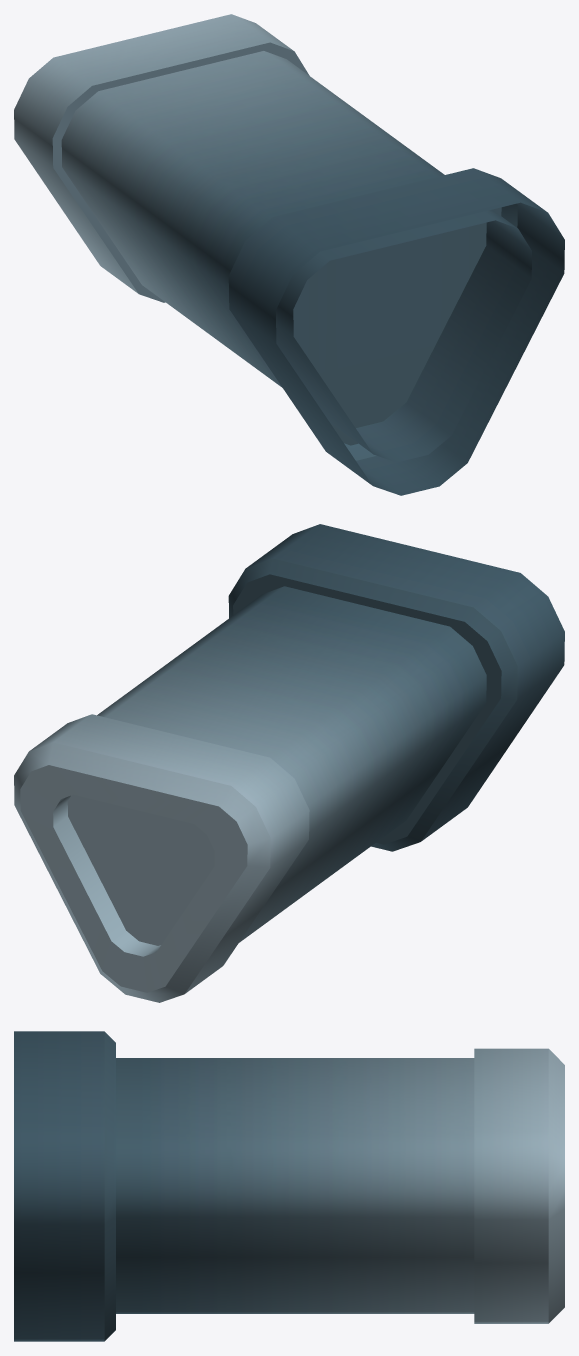
File: Pillar 02.FBX
3 views of the same model, one above another, from view 1: azimuth 30°, elevation 25°; view 2: azimuth 150°, elevation 25°; view 3: azimuth 270°, elevation 25° (orthographic). The views are drawn at different scales.
Visible parts, largest first — view 1: Pillar 02; view 2: Pillar 02; view 3: Pillar 02.
Boxes of the visible parts, <box> form: Pillar 02: <box>14,14,564,495</box>; Pillar 02: <box>14,524,564,1002</box>; Pillar 02: <box>14,1031,564,1341</box>.
Size of the model in its own units: 210 by 183 by 360.
1 material, 1 textured.
